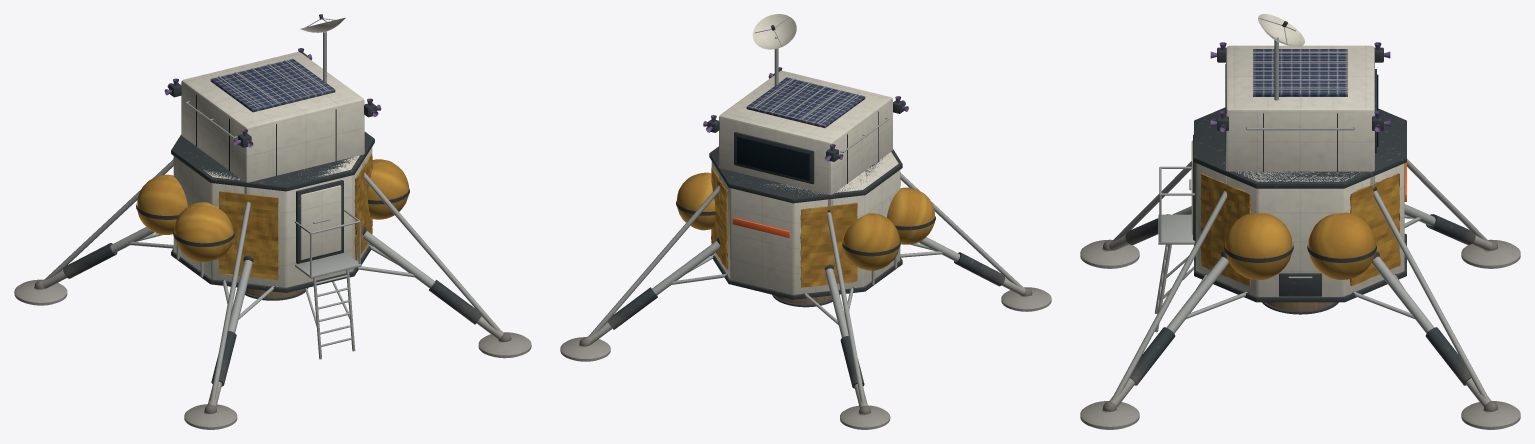
The model's file is survey-lander.glb.
The picture shows the model from 3 angles, left to right: view 1: azimuth 30°, elevation 25°; view 2: azimuth 150°, elevation 25°; view 3: azimuth 270°, elevation 25°; orthographic projection. The views are drawn at different scales.
Visible parts, largest first — view 1: survey_lander; view 2: survey_lander; view 3: survey_lander.
Boxes of the visible parts, left/top/right/bottom form: survey_lander: left=14, top=14, right=531, bottom=429; survey_lander: left=560, top=14, right=1051, bottom=429; survey_lander: left=1080, top=14, right=1520, bottom=429.
Bounding box in the file's own units: 7.4 × 6.35 × 7.4.
Materials: 2 (2 with a texture image).
